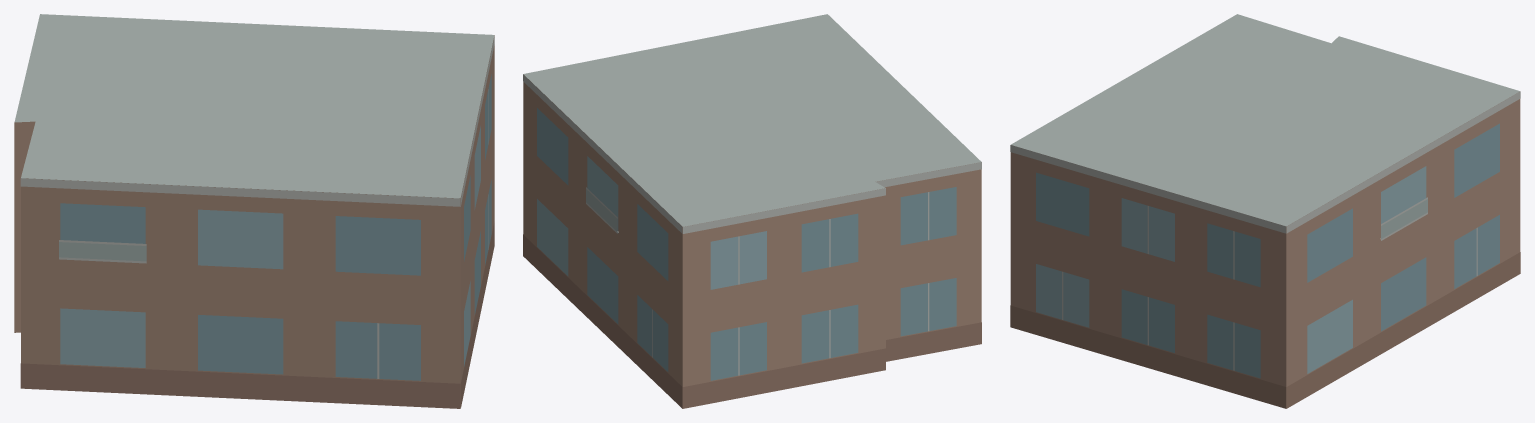
File: survey-upis-32668936.glb
The picture shows the model from 3 angles, left to right: view 1: azimuth 30°, elevation 25°; view 2: azimuth 150°, elevation 25°; view 3: azimuth 270°, elevation 25°; orthographic projection. The views are drawn at different scales.
Visible parts, largest first — view 1: survey-upis-32668936.tmp; view 2: survey-upis-32668936.tmp; view 3: survey-upis-32668936.tmp.
Part boxes in pixels (bbox=[...]): survey-upis-32668936.tmp: bbox=[14, 14, 494, 408]; survey-upis-32668936.tmp: bbox=[523, 14, 981, 408]; survey-upis-32668936.tmp: bbox=[1010, 14, 1520, 408].
Size of the model in its own units: 15.24 by 6.1 by 15.46.
